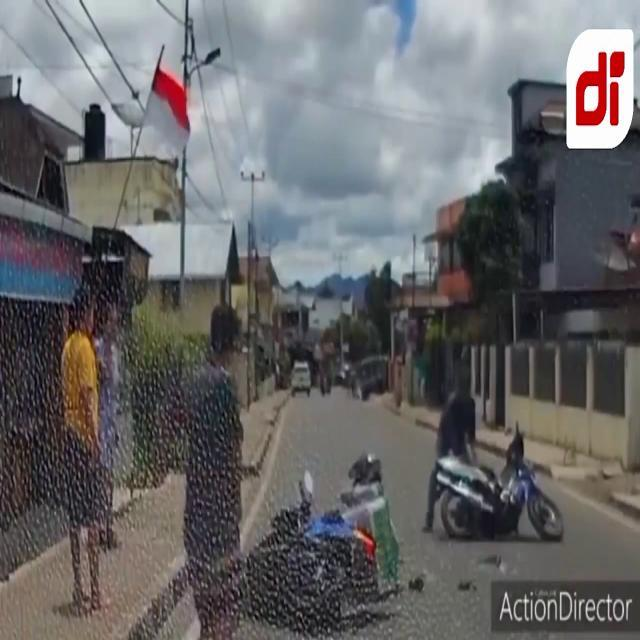multiple_accident: (243, 416, 630, 613)
